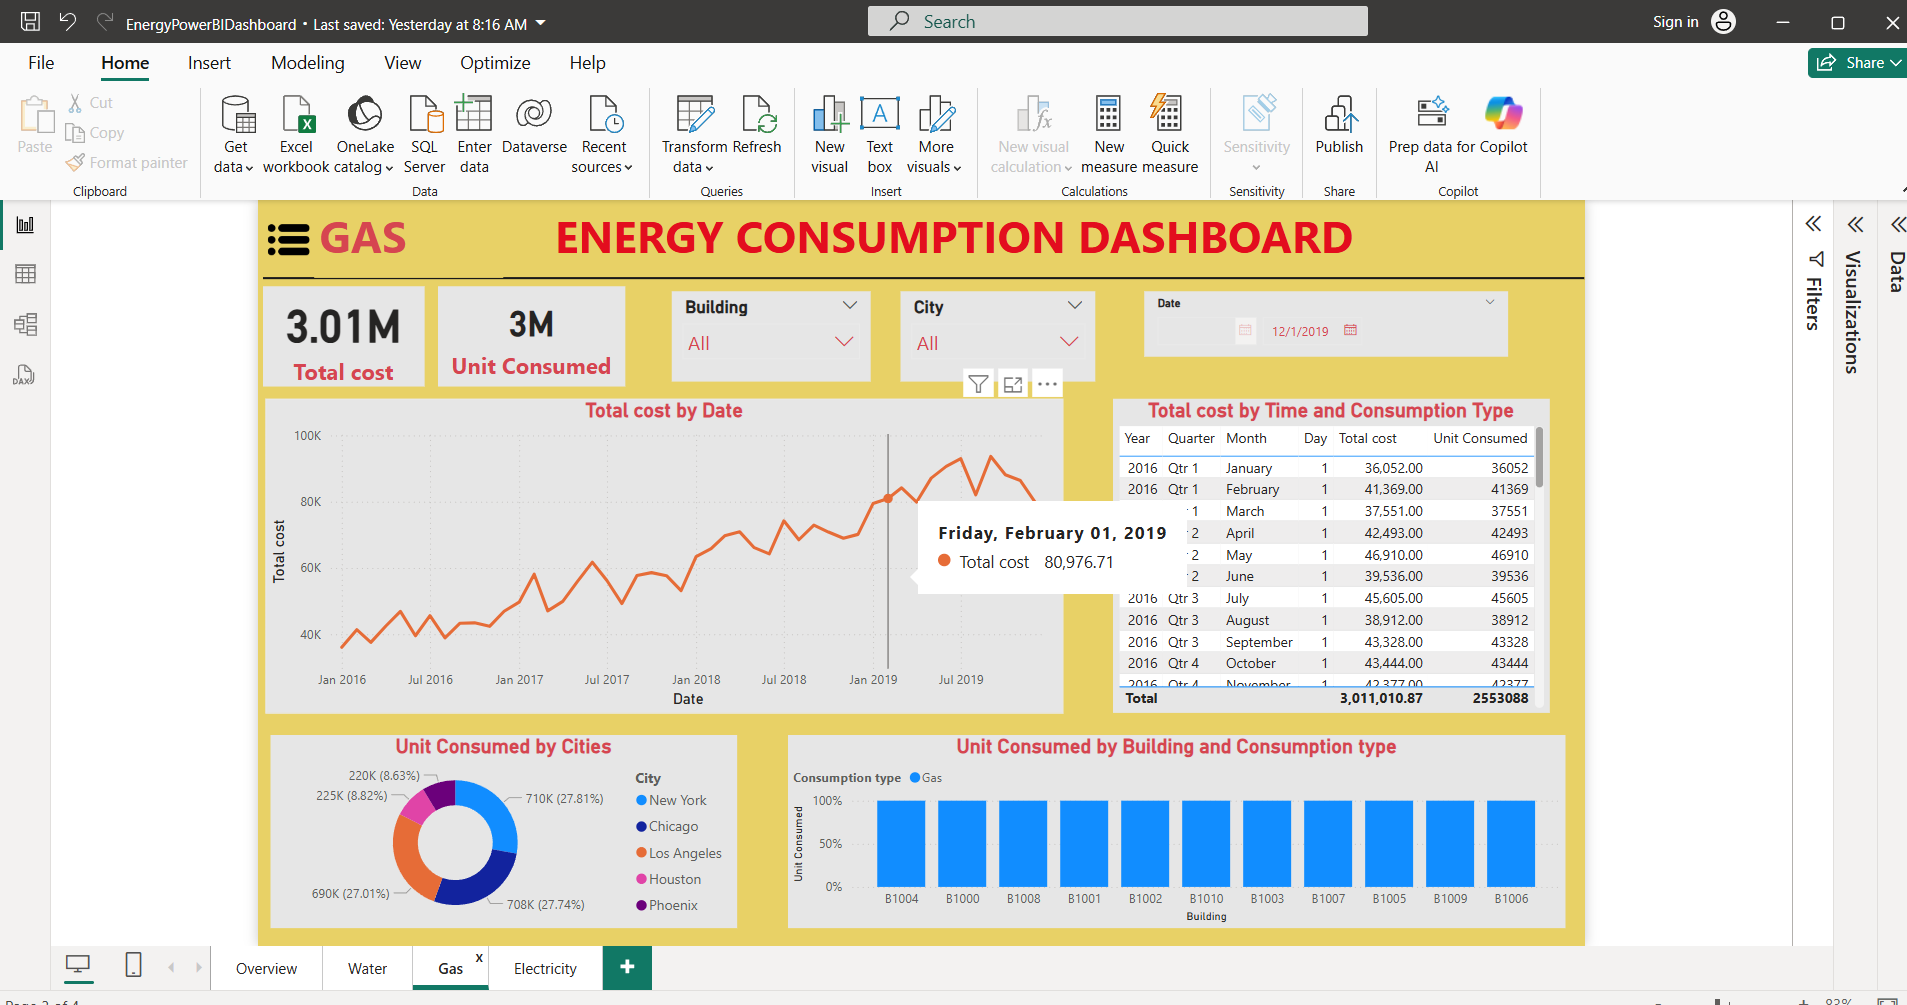

The page's visual inventory and layout, read from the dashboard file:
{"tool":"powerbi","page":{"name":"Gas","canvas":[1280,720],"ordinal":2},"visuals":[{"type":"textbox","box":[11.3,0,1268.7,101.6],"z":0},{"type":"shape","box":[4.8,0,1275.2,150.8],"z":1000},{"type":"textbox","box":[54.9,0,182.5,75.5],"z":2000},{"type":"image","box":[4.8,0,49.5,76],"z":3000},{"type":"card","fields":{"Values":["Energy Consumptions.Total cost"]},"box":[4.8,83.2,155.6,96.5],"z":4000},{"type":"card","fields":{"Values":["Energy Consumptions.Unit Consumed"]},"box":[173.7,83.2,181,96.5],"z":5000},{"type":"slicer","fields":{"Values":["Energy Consumptions.Building"]},"box":[399.3,88.1,191.8,86.9],"z":6000},{"type":"slicer","fields":{"Values":["Building Master.City"]},"box":[620.1,88.1,188.2,86.9],"z":7000},{"type":"slicer","fields":{"Values":["Energy Consumptions.Date"]},"box":[854.9,87.8,351.3,63.1],"z":8000},{"type":"donutChart","title":"Unit Consumed by Cities","fields":{"Y":["Energy Consumptions.Unit Consumed"],"Category":["Building Master.City"]},"box":[12.3,516,450.1,186.6],"z":9000},{"type":"tableEx","title":"Total cost by Time and Consumption Type","fields":{"Values":["Energy Consumptions.Date.Variation.Date Hierarchy.Year","Energy Consumptions.Date.Variation.Date Hierarchy.Quarter","Energy Consumptions.Date.Variation.Date Hierarchy.Month","Energy Consumptions.Date.Variation.Date Hierarchy.Day","Energy Consumptions.Total cost","Energy Consumptions.Unit Consumed"]},"box":[824.7,192.1,421.3,303.3],"z":10000},{"type":"hundredPercentStackedColumnChart","fields":{"Y":["Energy Consumptions.Unit Consumed"],"Category":["Energy Consumptions.Building"],"Series":["Energy Consumptions.Consumption type"]},"box":[511.8,516,750.6,186.6],"z":11000},{"type":"lineChart","fields":{"Y":["Energy Consumptions.Total cost"],"Category":["Energy Consumptions.Date"]},"box":[6.9,192.1,769.8,303.3],"z":12000}]}

Visuals, with their boxes on the page's 1280x720 design canvas (x1, y1, x2, y2). These are canvas units, not pixel positions in the 1907x1005 screenshot, which may show the page scaled, cropped or inside an application window:
textbox: box=[11, 0, 1280, 102]
shape: box=[5, 0, 1280, 151]
textbox: box=[55, 0, 237, 76]
image: box=[5, 0, 54, 76]
card - Energy Consumptions.Total cost: box=[5, 83, 160, 180]
card - Energy Consumptions.Unit Consumed: box=[174, 83, 355, 180]
slicer - Energy Consumptions.Building: box=[399, 88, 591, 175]
slicer - Building Master.City: box=[620, 88, 808, 175]
slicer - Energy Consumptions.Date: box=[855, 88, 1206, 151]
"Unit Consumed by Cities" donutChart: box=[12, 516, 462, 703]
"Total cost by Time and Consumption Type" tableEx: box=[825, 192, 1246, 495]
hundredPercentStackedColumnChart - Energy Consumptions.Unit Consumed x Energy Consumptions.Building: box=[512, 516, 1262, 703]
lineChart - Energy Consumptions.Total cost x Energy Consumptions.Date: box=[7, 192, 777, 495]
